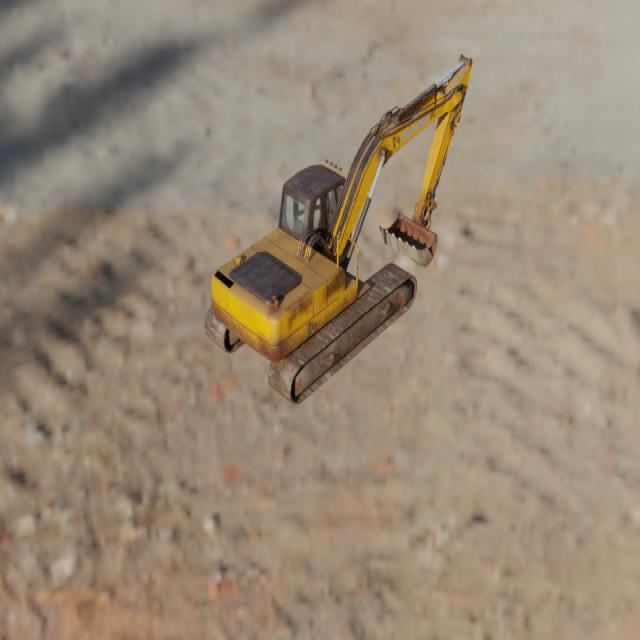excavator: (204, 53, 473, 406)
